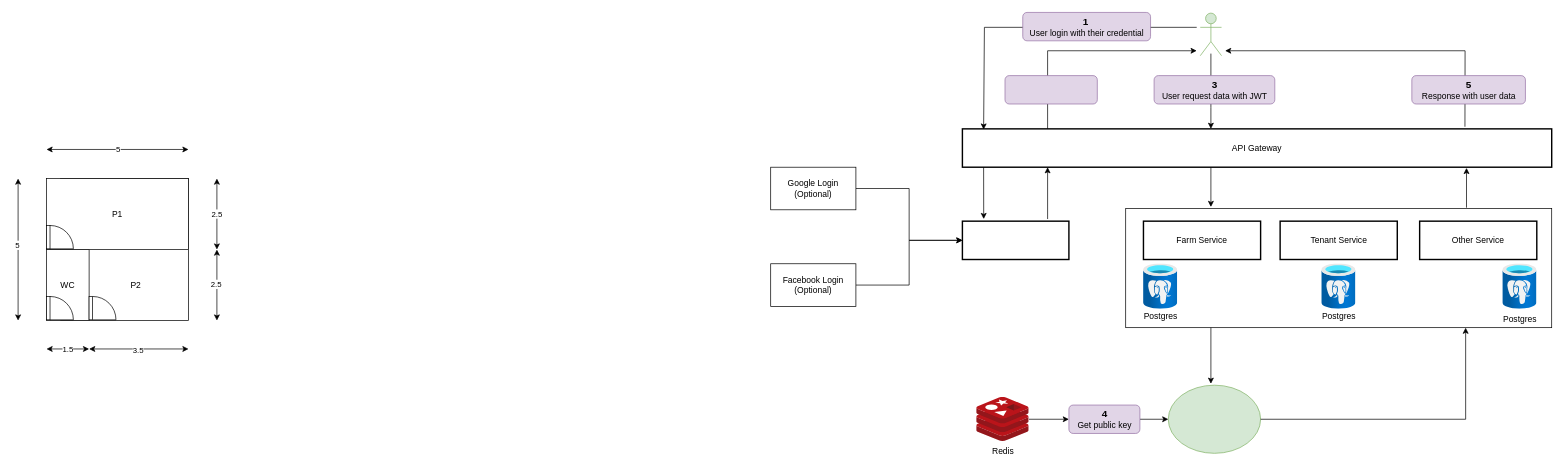
This 1565x475 diagram has some shape labels left out. Each missing label, with the centre of its shape:
"2 Response with JWT" goes at point 1050,89.
"Auth Service" goes at point 1015,240.
"Verify JWT with public key" goes at point 1214,418.
